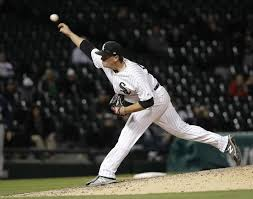baseball: (49, 12, 59, 24)
baseball player: (59, 22, 242, 189)
